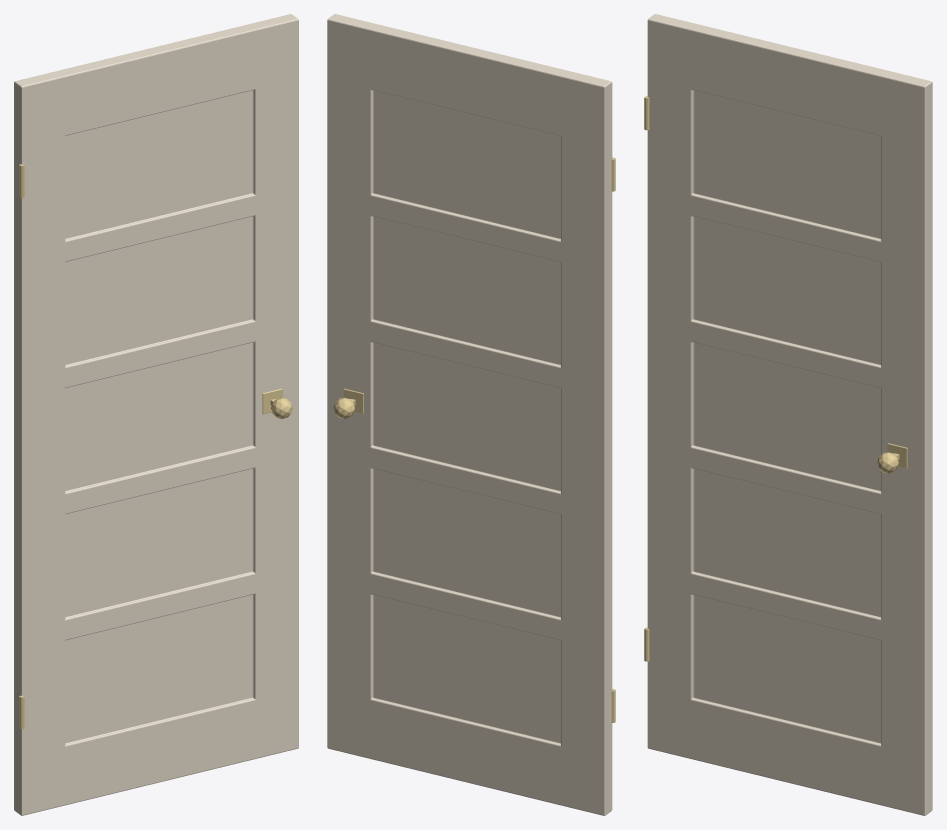
The model's file is door_leaf_interior.glb.
3 views of the same model, side by side, from view 1: azimuth 30°, elevation 25°; view 2: azimuth 150°, elevation 25°; view 3: azimuth 330°, elevation 25° (orthographic).
Visible parts, largest first — view 1: door_leaf_interior_door_int, door_leaf_interior_brass; view 2: door_leaf_interior_door_int, door_leaf_interior_brass; view 3: door_leaf_interior_door_int, door_leaf_interior_brass.
Boxes of the visible parts, x1=… form: door_leaf_interior_door_int: x1=14, y1=14, x2=298, y2=815; door_leaf_interior_brass: x1=19, y1=164, x2=292, y2=729; door_leaf_interior_door_int: x1=327, y1=14, x2=612, y2=815; door_leaf_interior_brass: x1=333, y1=157, x2=615, y2=722; door_leaf_interior_door_int: x1=647, y1=14, x2=932, y2=815; door_leaf_interior_brass: x1=644, y1=96, x2=907, y2=661.
Bounding box in the file's own units: 0.827 × 2.06 × 0.196.
